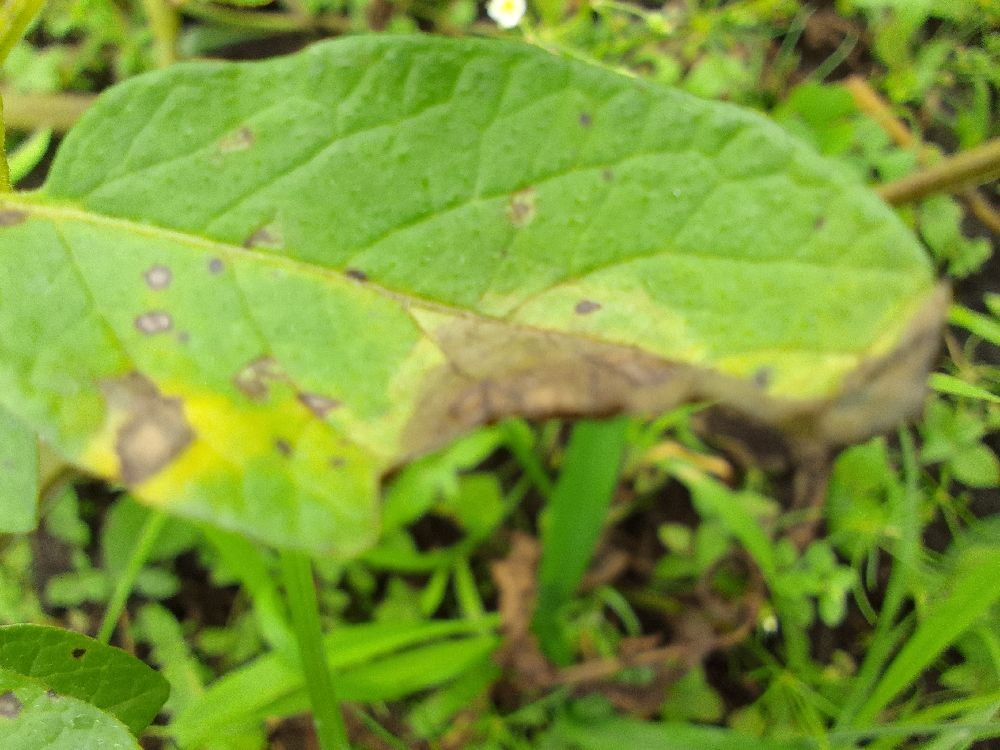late_blight: (361, 0, 999, 609), (0, 342, 229, 670), (780, 523, 909, 695), (144, 0, 374, 85)
